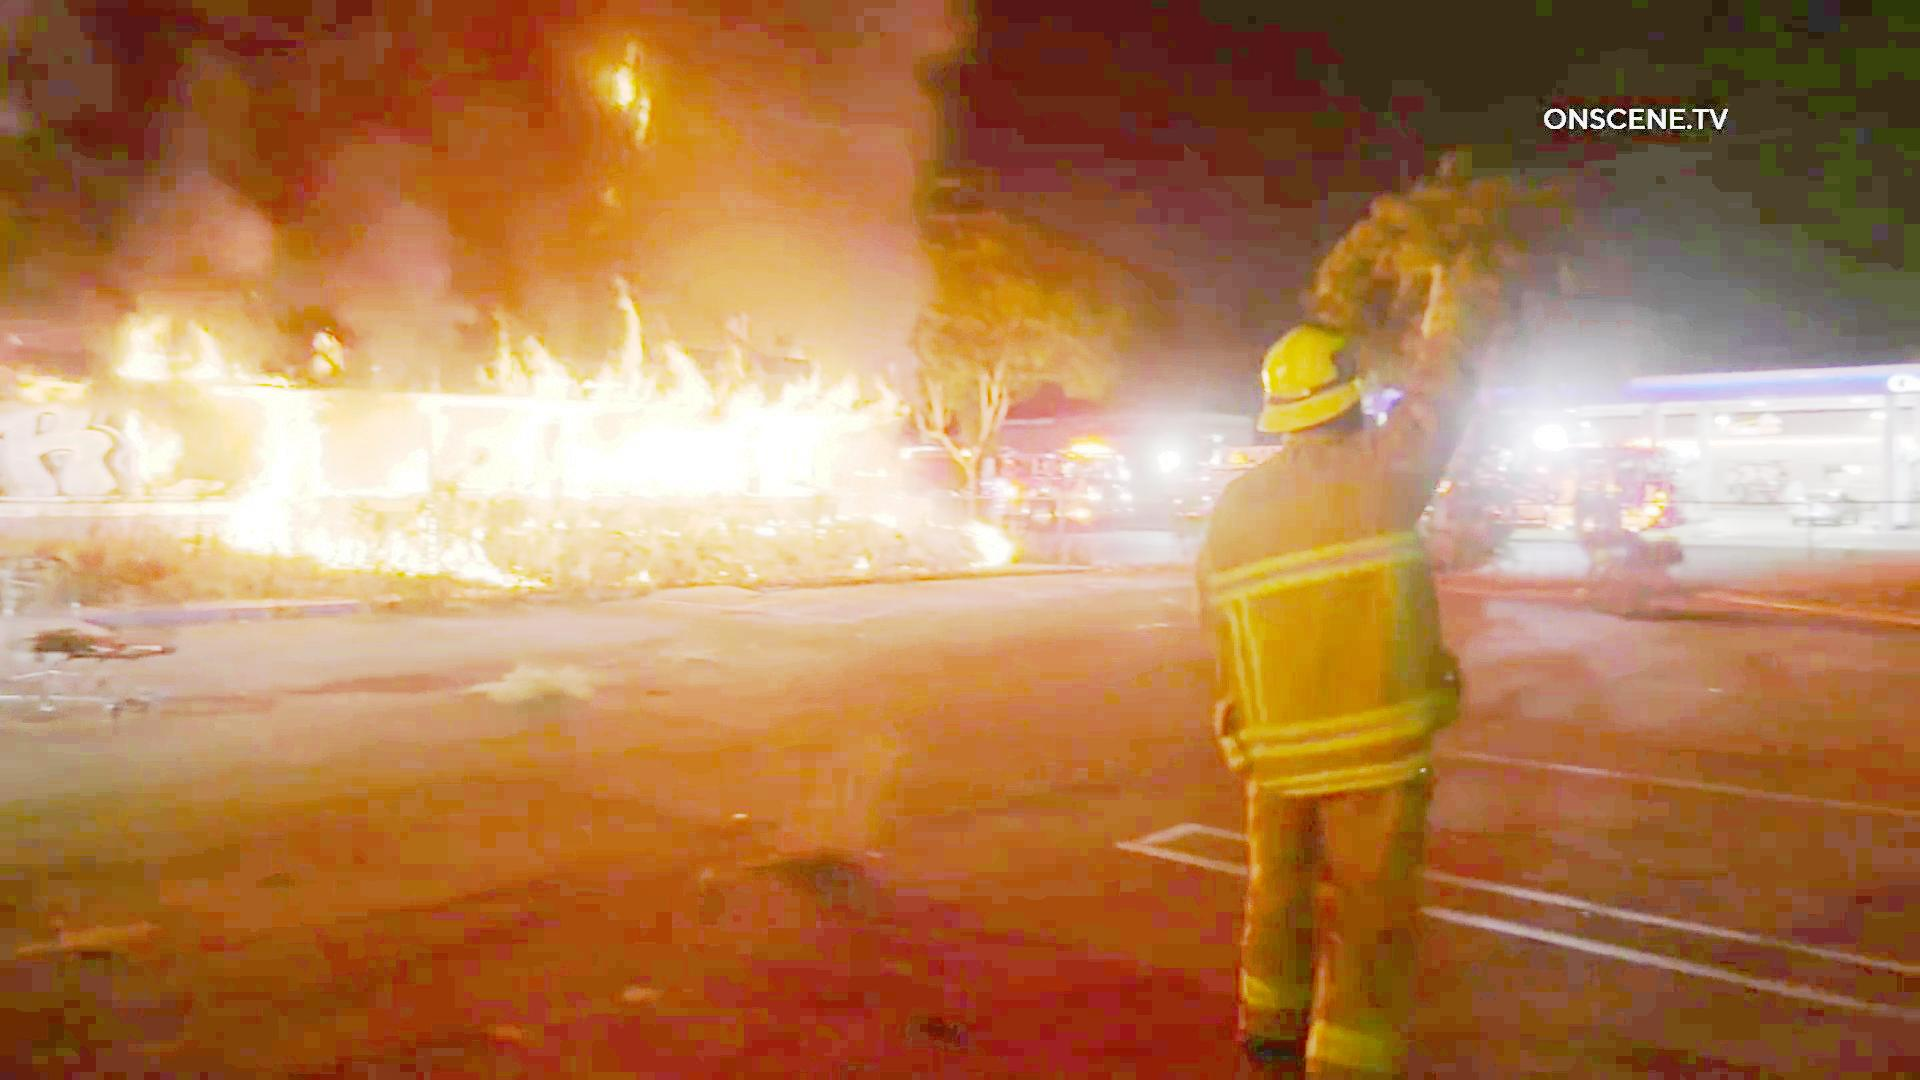fire: (435, 315, 876, 529), (111, 335, 347, 559)
smoke: (53, 36, 781, 301)
